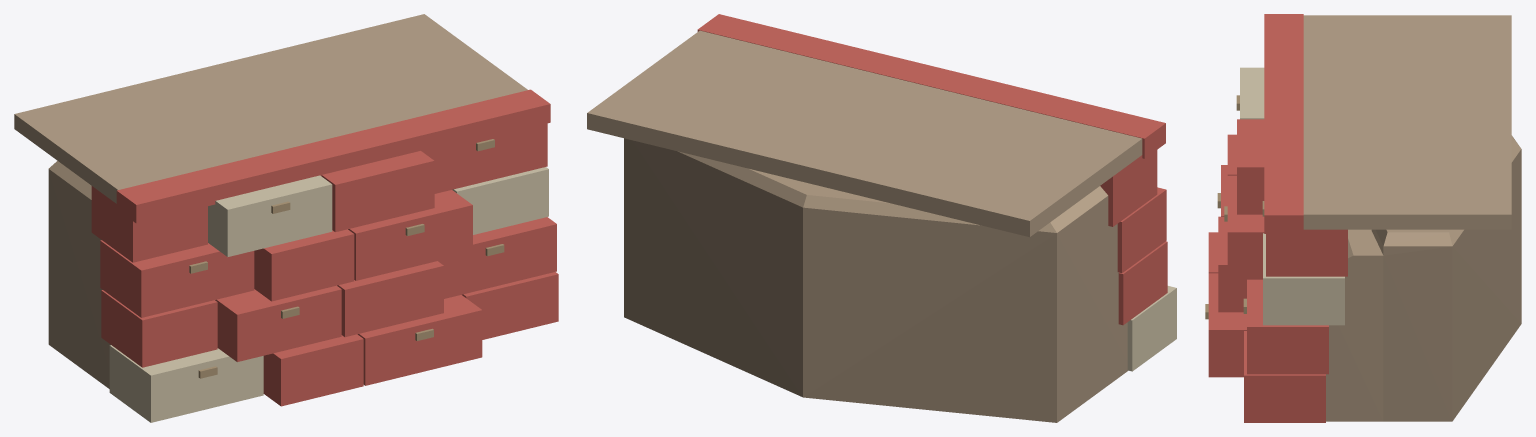
File: terrace-corner-coral.glb
The picture shows the model from 3 angles, left to right: view 1: azimuth 30°, elevation 25°; view 2: azimuth 150°, elevation 25°; view 3: azimuth 270°, elevation 25°; orthographic projection. The views are drawn at different scales.
Parts seen in each view (by area): view 1: terrace-corner-coral; view 2: terrace-corner-coral; view 3: terrace-corner-coral.
Part boxes in pixels (x1,y1,x2,y2): terrace-corner-coral: (14,14,558,422); terrace-corner-coral: (587,14,1176,422); terrace-corner-coral: (1205,14,1521,422).
Bounding box in the file's own units: 6.04 × 2.93 × 4.01.
